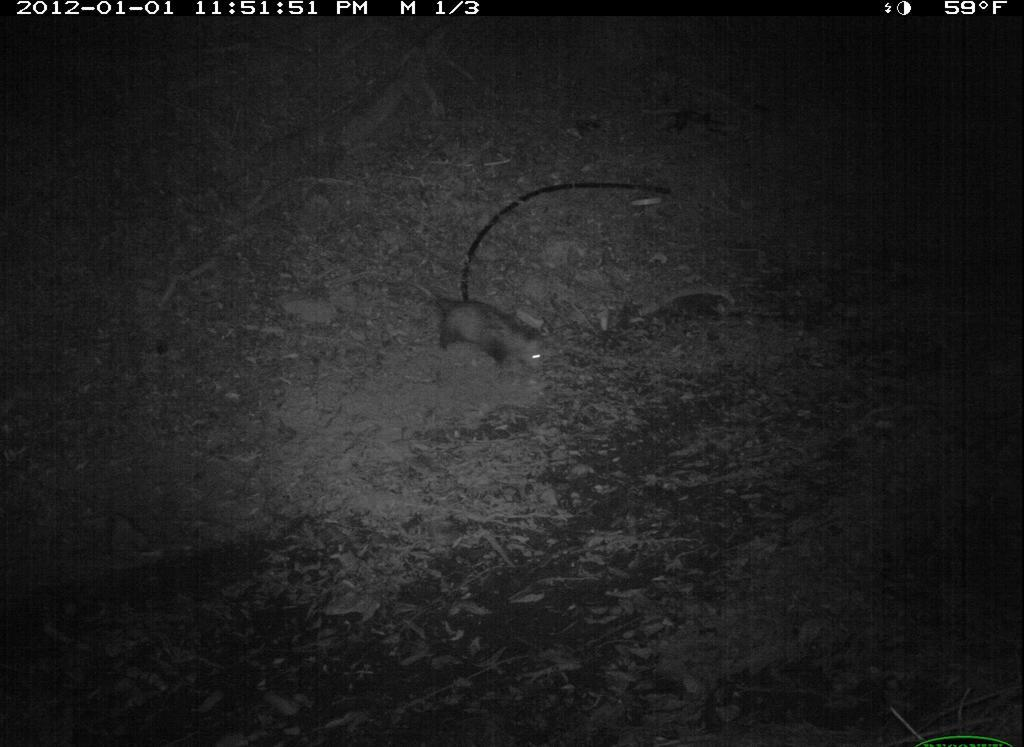opossum: (413, 287, 557, 385)
